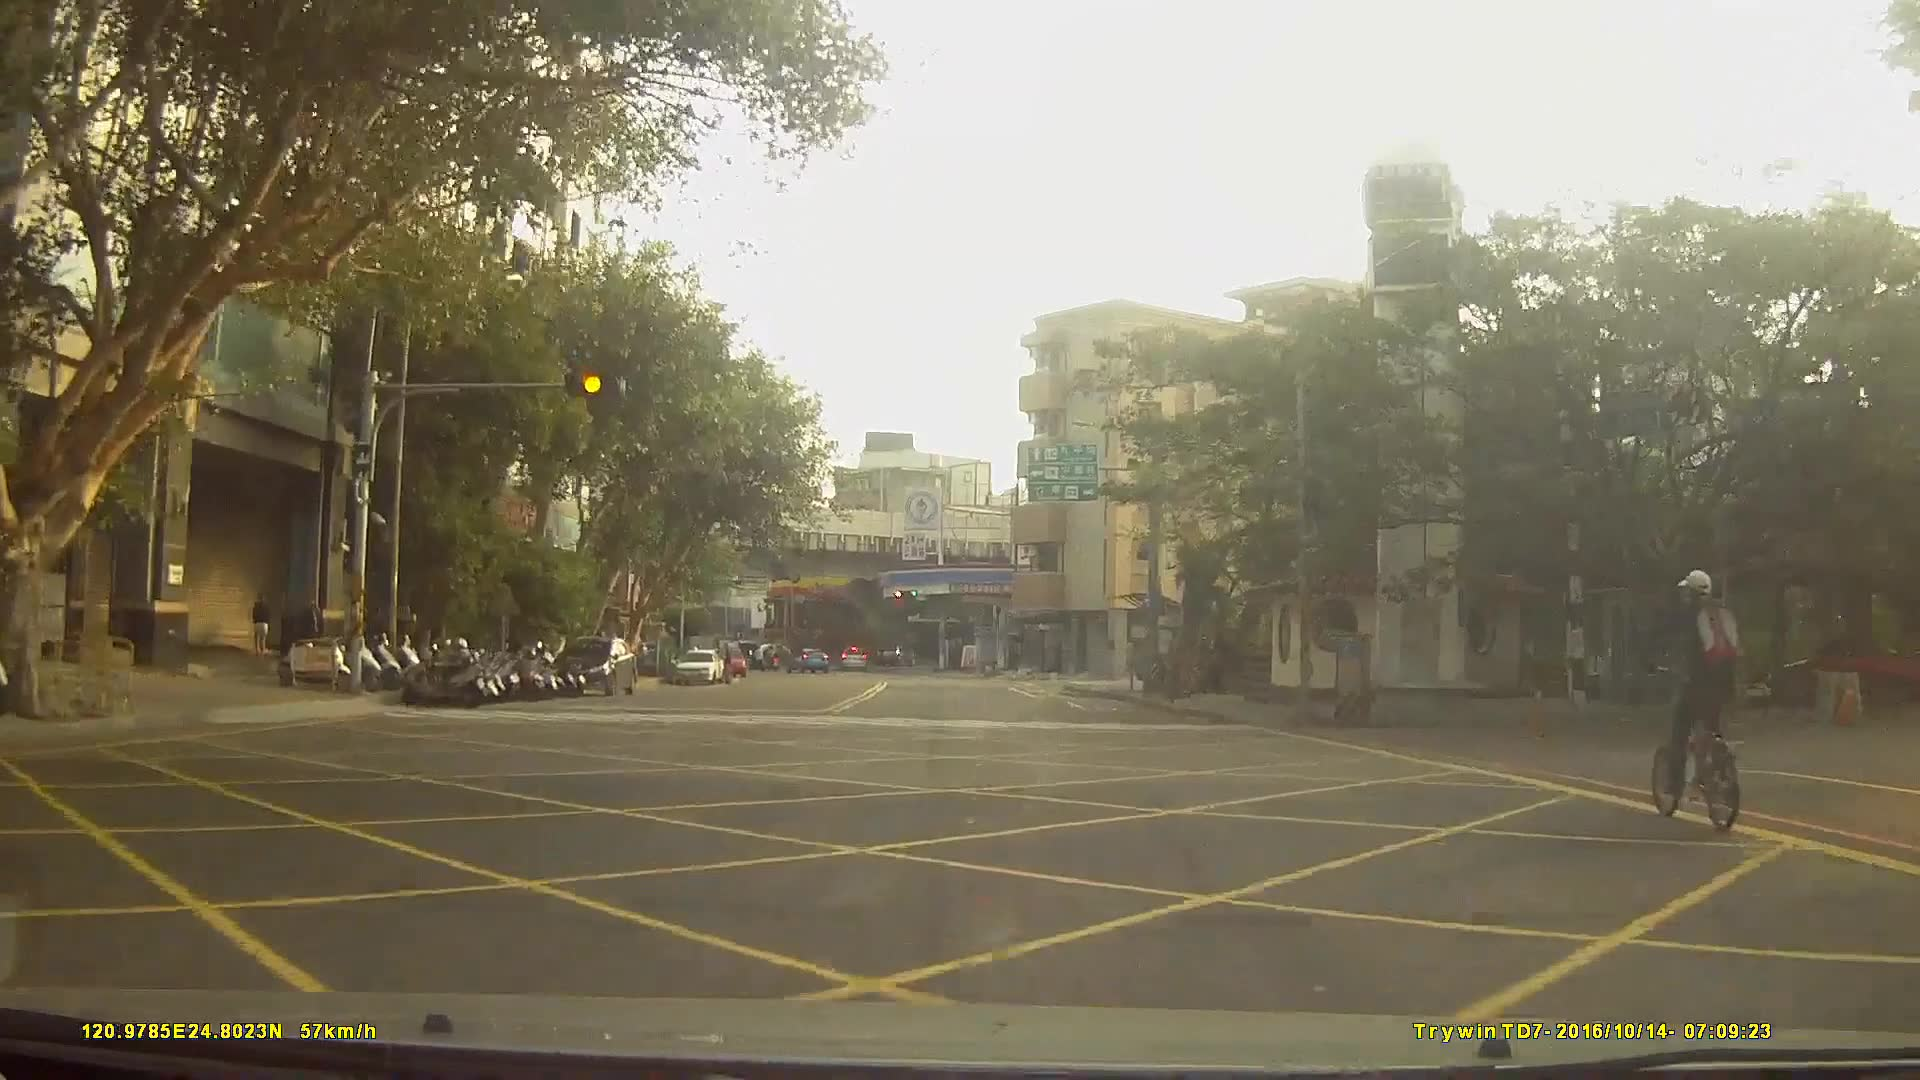pedestrian: (252, 593, 272, 656)
rider: (1640, 573, 1749, 837)
vehicle: (1767, 627, 1920, 706), (551, 634, 636, 696), (671, 646, 723, 685), (787, 644, 827, 672), (838, 643, 868, 671)
